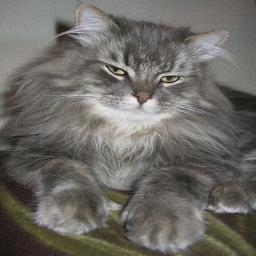catnose: (132, 92, 153, 104)
